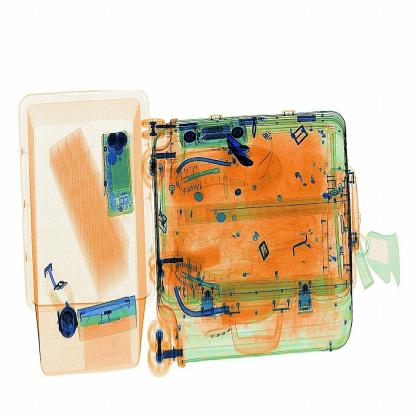pliers: (226, 124, 270, 178)
